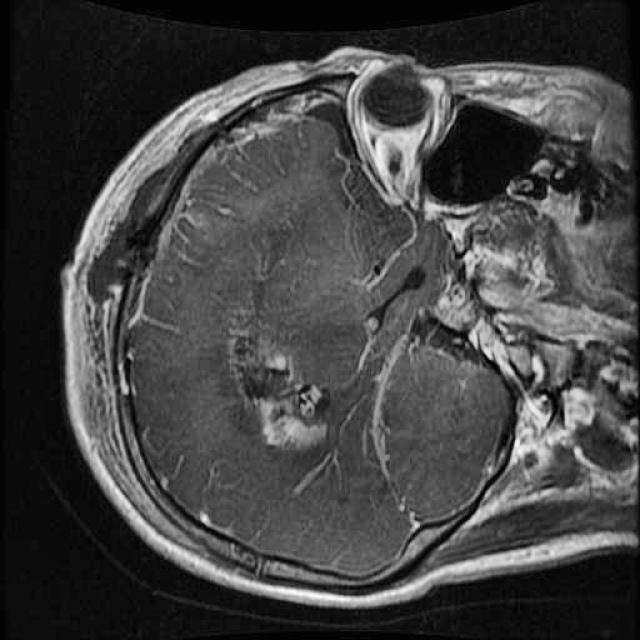Tumor: (203, 275, 355, 480)
